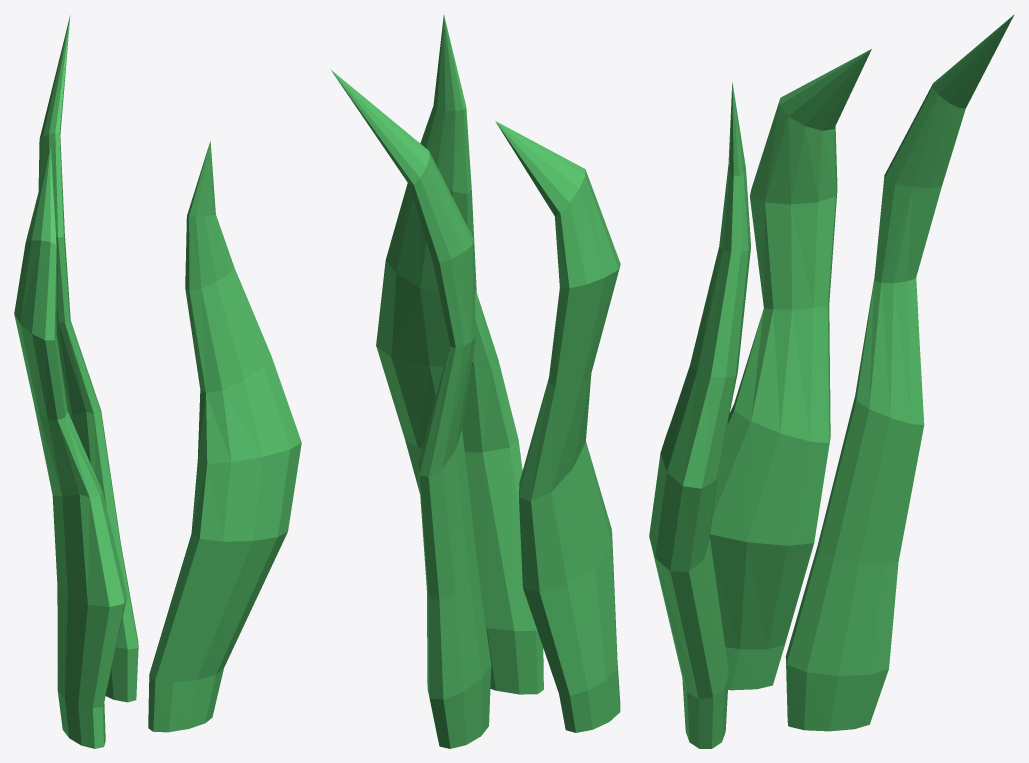
Rendered from seaweed-2.glb.
The picture shows the model from 3 angles, left to right: view 1: azimuth 30°, elevation 25°; view 2: azimuth 150°, elevation 25°; view 3: azimuth 270°, elevation 25°; orthographic projection. The views are drawn at different scales.
Parts seen in each view (by area): view 1: seaweed-2; view 2: seaweed-2; view 3: seaweed-2.
Boxes of the visible parts, box(x1,y1,x2,y2) form: seaweed-2: box(14, 15, 301, 748); seaweed-2: box(331, 15, 620, 748); seaweed-2: box(649, 14, 1014, 748).
Bounding box in the file's own units: 5.16 × 12.84 × 5.83.
